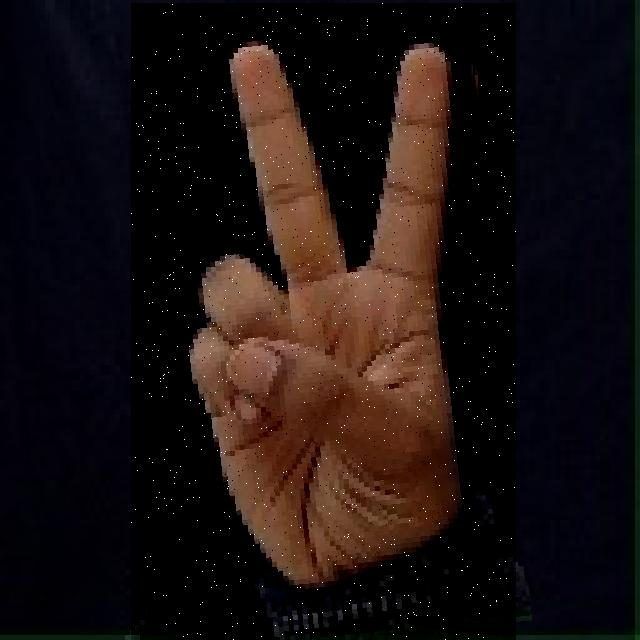No: (131, 3, 516, 640)
